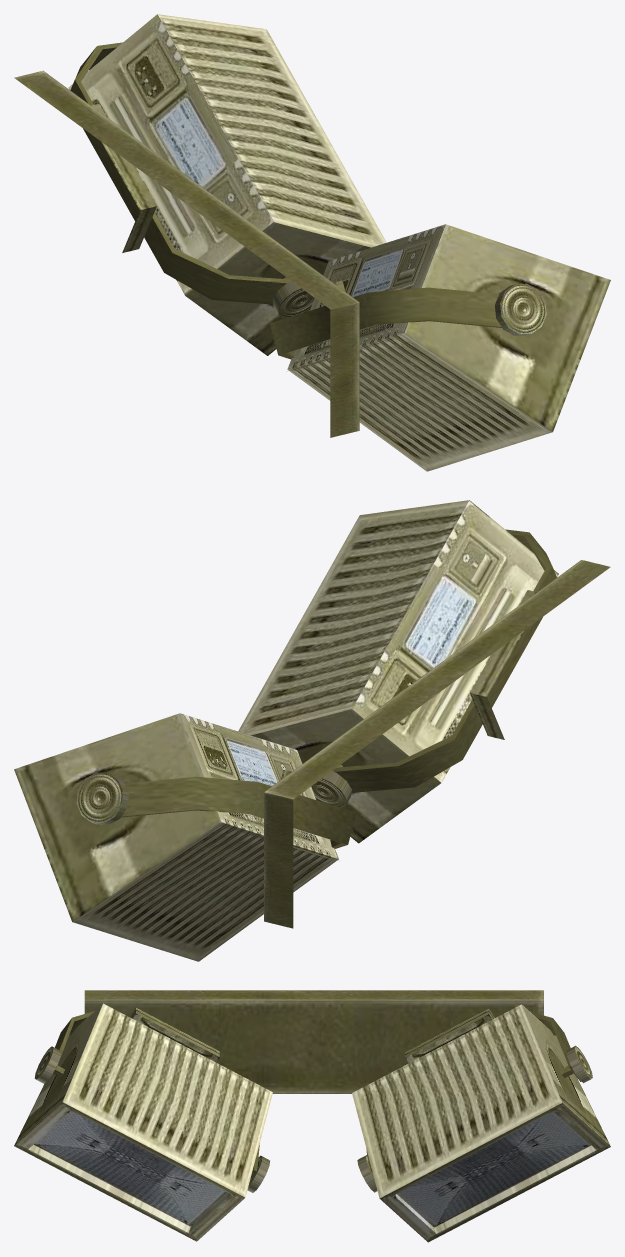
Rendered from floodlight01.glb.
3 renders of one model, top to bottom at view 1: azimuth 30°, elevation 25°; view 2: azimuth 150°, elevation 25°; view 3: azimuth 270°, elevation 25°, orthographic. The views are drawn at different scales.
Parts seen in each view (by area): view 1: 0_Floodlight02; view 2: 0_Floodlight02; view 3: 0_Floodlight02.
Part boxes in pixels (x1,y1,x2,y2): 0_Floodlight02: (14, 14, 610, 471); 0_Floodlight02: (14, 500, 610, 961); 0_Floodlight02: (14, 990, 610, 1242).
Bounding box in the file's own units: 0.2976 × 0.329 × 0.7986.
Materials: 1 (1 with a texture image).
